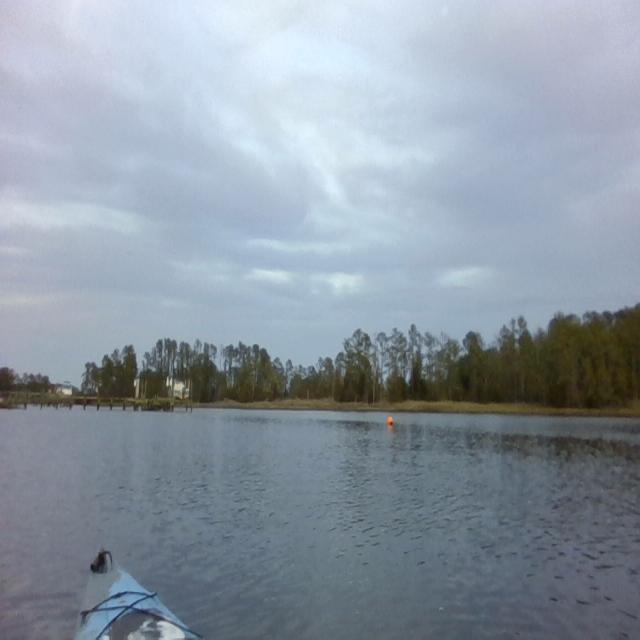Buoy: (385, 411, 396, 433)
